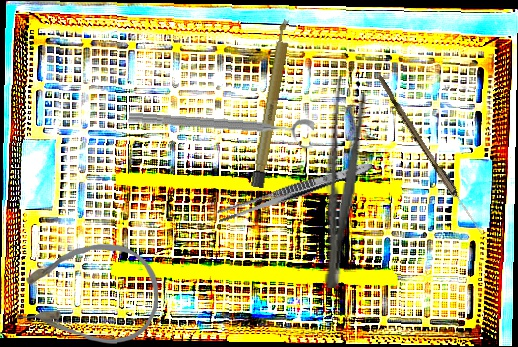Cannula: (16, 241, 159, 347)
Dressing Forceps: (314, 75, 368, 290), (215, 157, 375, 226)
Fixation Ring: (127, 106, 315, 152)
Scalpel Handle: (250, 18, 294, 189)
Surgical Spoon: (373, 75, 488, 238)
